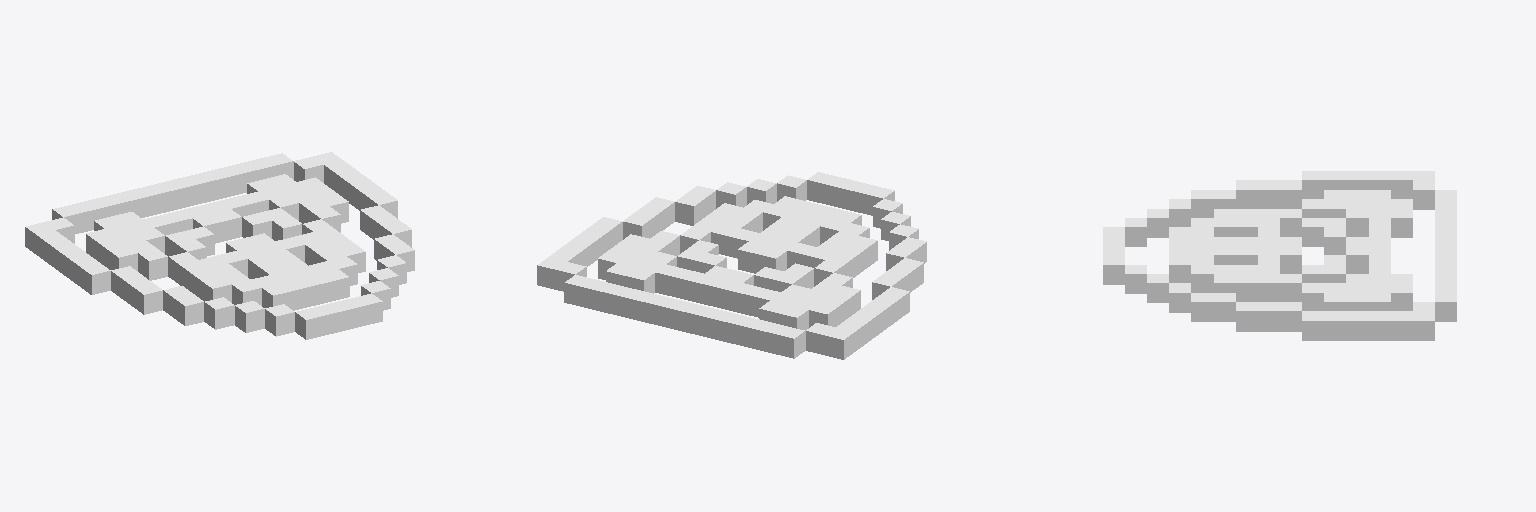
The model's file is Picture04-0-b22.obj.
3 renders of one model, left to right at view 1: azimuth 30°, elevation 25°; view 2: azimuth 150°, elevation 25°; view 3: azimuth 270°, elevation 25°, orthographic.
Parts seen in each view (by area): view 1: b22; view 2: b22; view 3: b22.
Part boxes in pixels (x1,y1,x2,y2): b22: (25, 152, 414, 339); b22: (537, 172, 926, 359); b22: (1103, 171, 1456, 340).
Bounding box in the file's own units: 1.6 × 0.1 × 1.6.